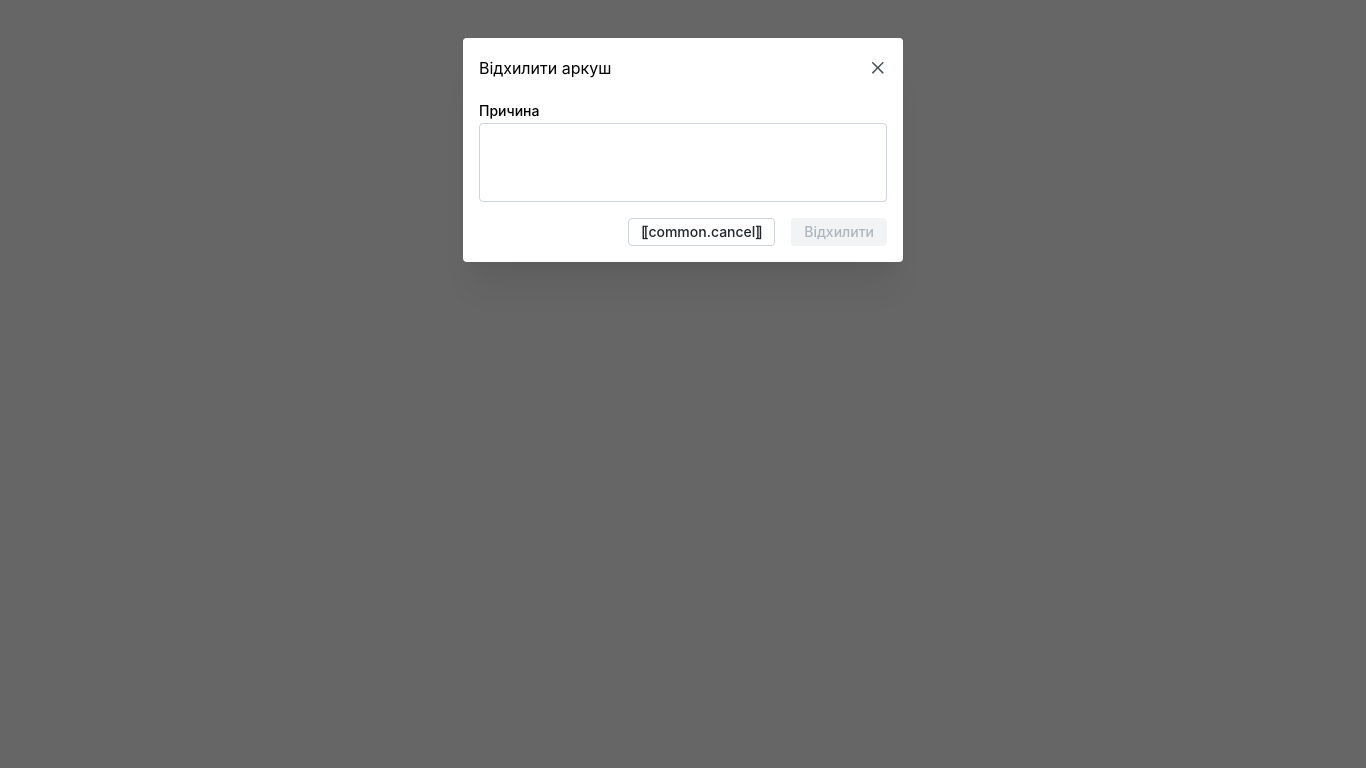
Test: ReasonModal: без minLength поріг — один символ › один значущий символ — кнопка увімкнена
The image size is (1366, 768).
Step 1. Type "!" into the text box labelled "Причина" → [683, 163], box [479,123,887,202]
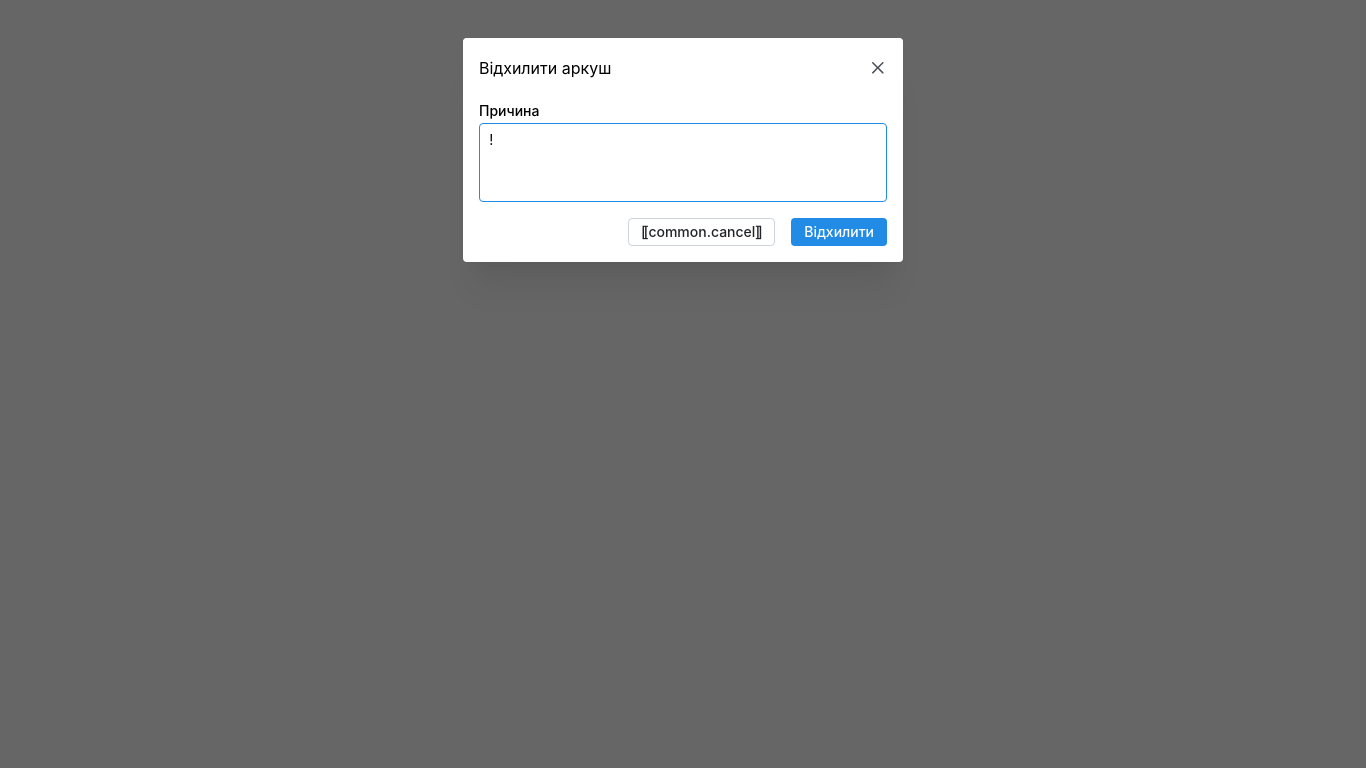
Expected: the button "Відхилити" is enabled, [791,218,887,246]
